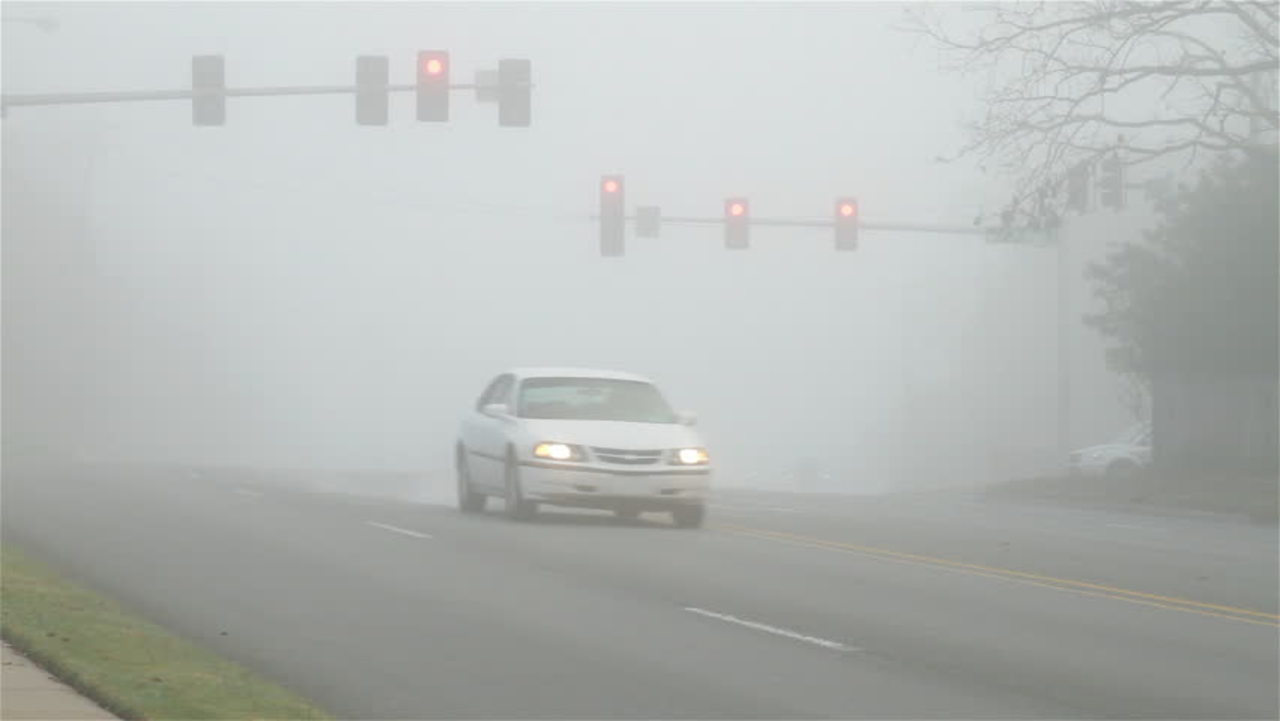car: (452, 369, 716, 528), (1068, 411, 1154, 478)
